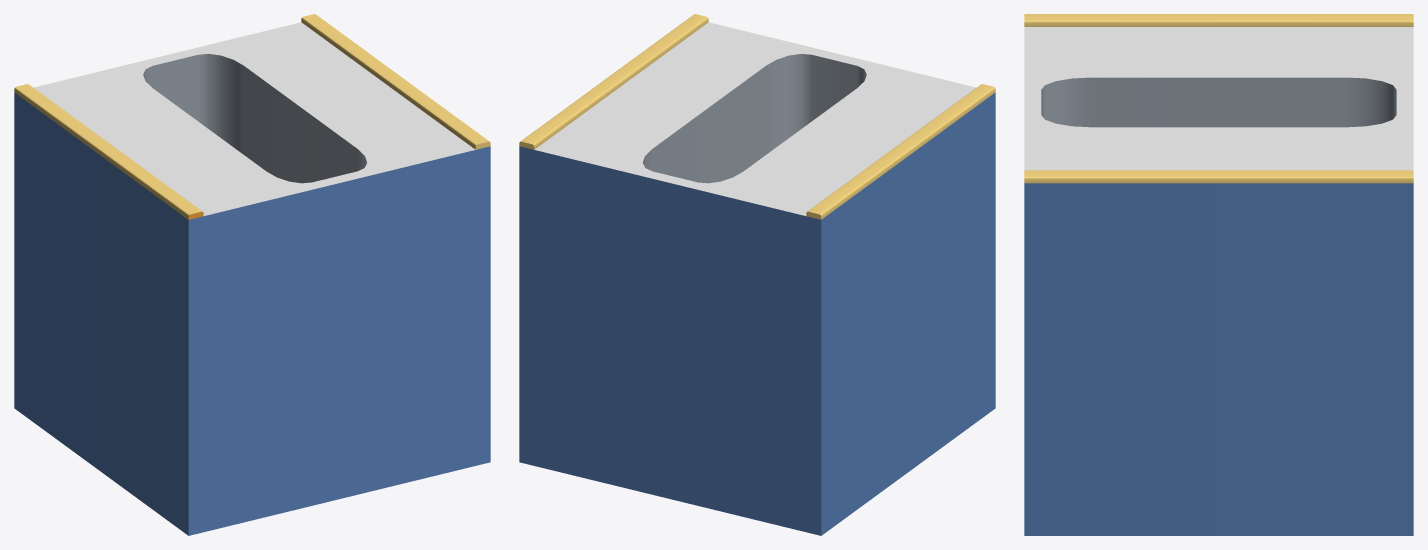
3 renders of one model, left to right at view 1: azimuth 30°, elevation 25°; view 2: azimuth 150°, elevation 25°; view 3: azimuth 270°, elevation 25°, orthographic. The views are drawn at different scales.
Visible parts, largest first — view 1: e2; view 2: e2; view 3: e2.
Part boxes in pixels (left/top/right/bottom): e2: left=14, top=14, right=490, bottom=535; e2: left=519, top=14, right=995, bottom=535; e2: left=1024, top=14, right=1413, bottom=535.
Size of the model in its own units: 700 by 711 by 700.
1 material, 1 textured.
